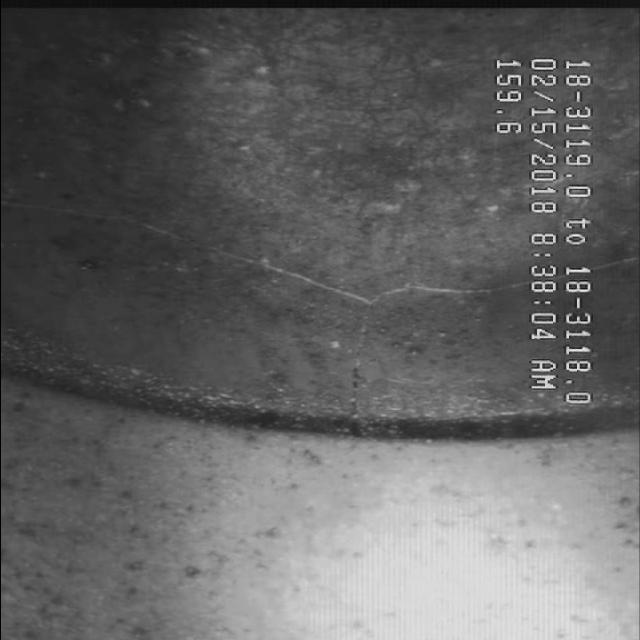Crack: (110, 223, 466, 368)
